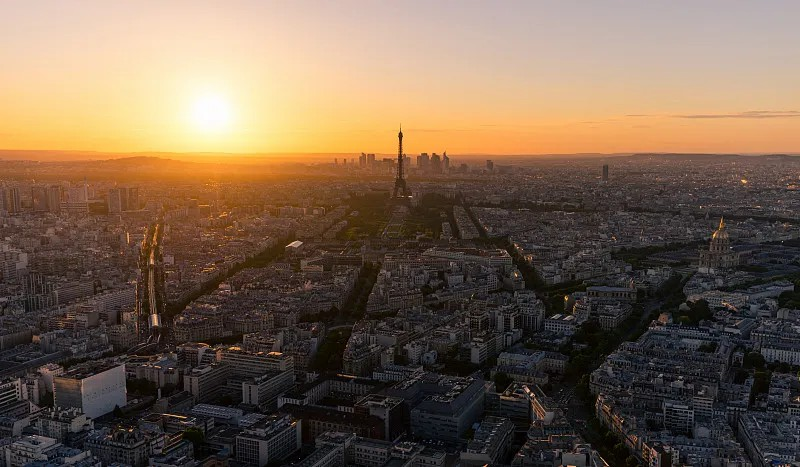Eiffel: (386, 124, 413, 214)
